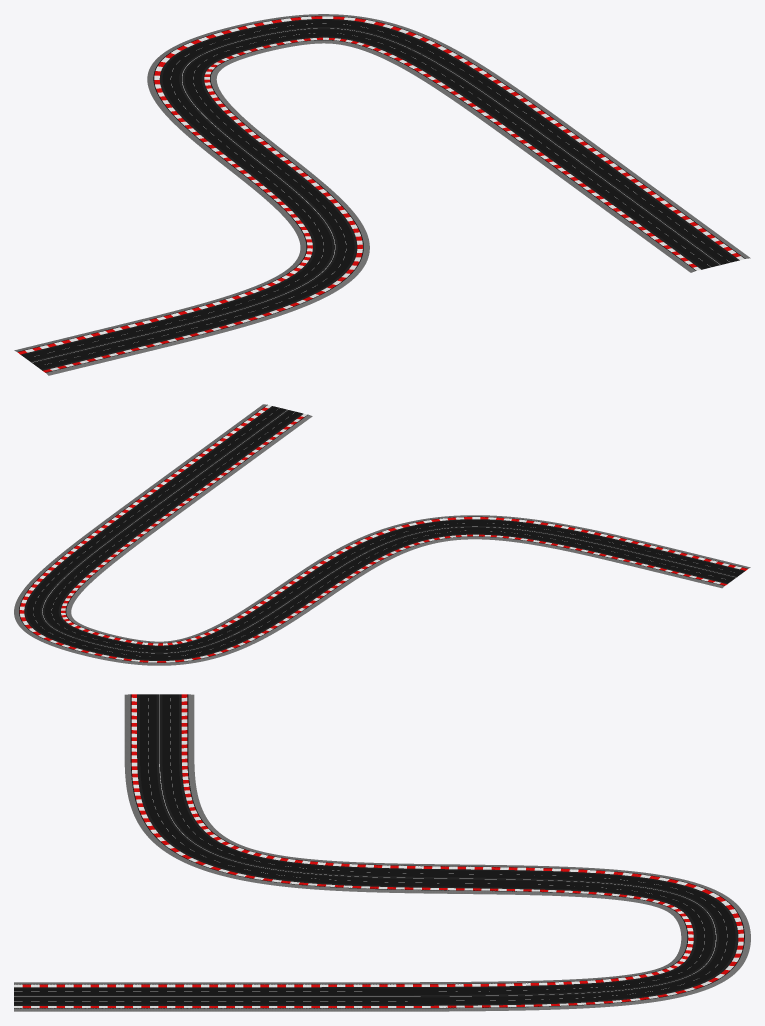
The model's file is S0.3r3-pie.glb.
3 renders of one model, top to bottom at view 1: azimuth 30°, elevation 25°; view 2: azimuth 150°, elevation 25°; view 3: azimuth 270°, elevation 25°, orthographic. The views are drawn at different scales.
Visible parts, largest first — view 1: Grid; view 2: Grid; view 3: Grid.
Boxes of the visible parts, x1,y1,x2,y2 form: Grid: (14, 14, 750, 375); Grid: (14, 404, 750, 665); Grid: (14, 694, 750, 1011).
Bounding box in the file's own units: 269 × 0.31 × 264.
